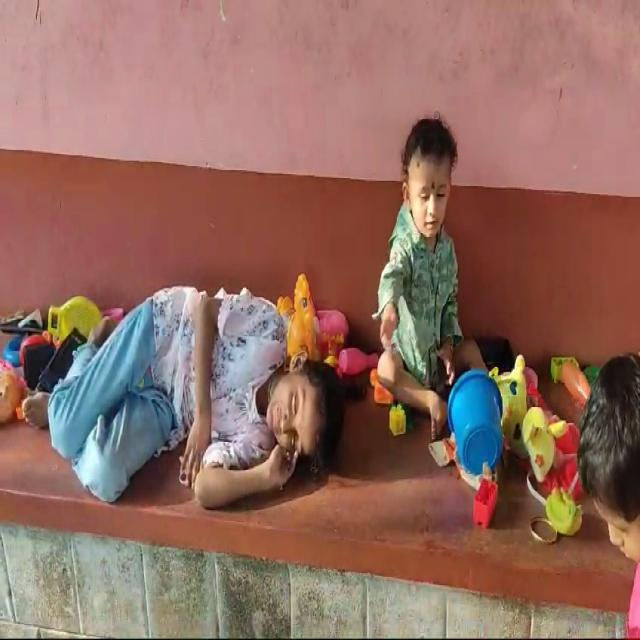child: (14, 276, 353, 552), (366, 38, 508, 508)
